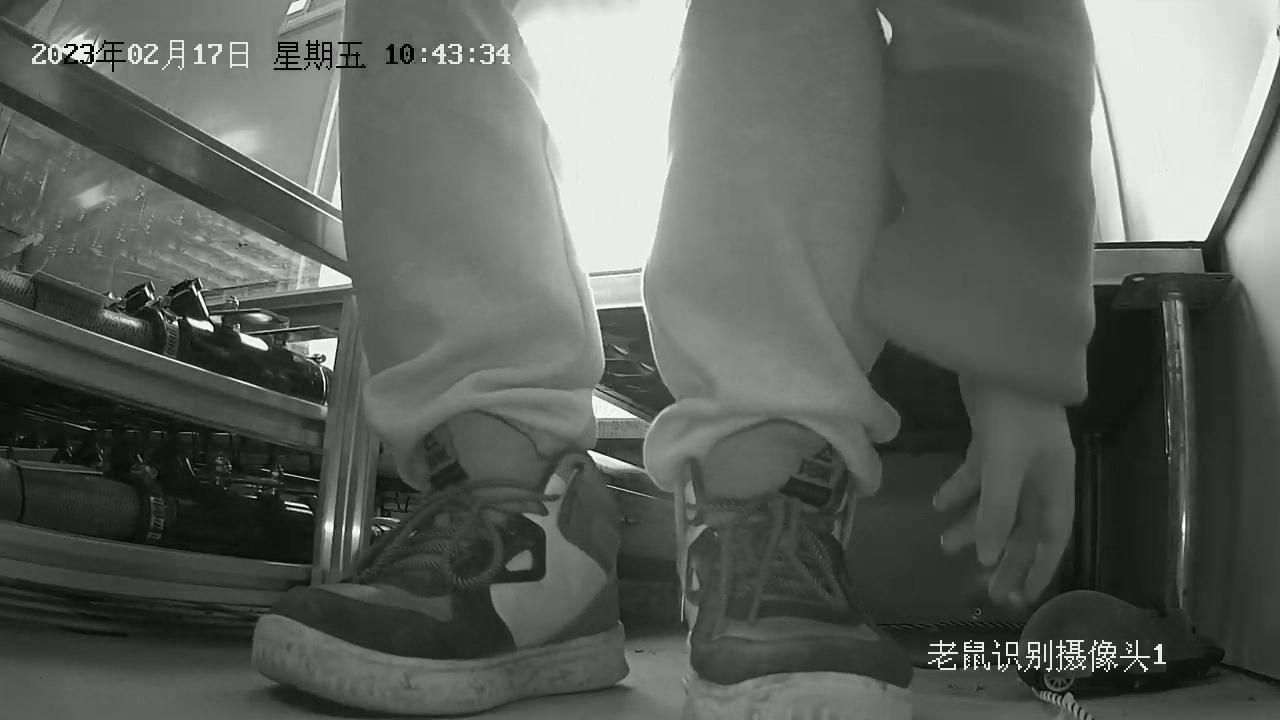rat: (1016, 579, 1229, 694)
